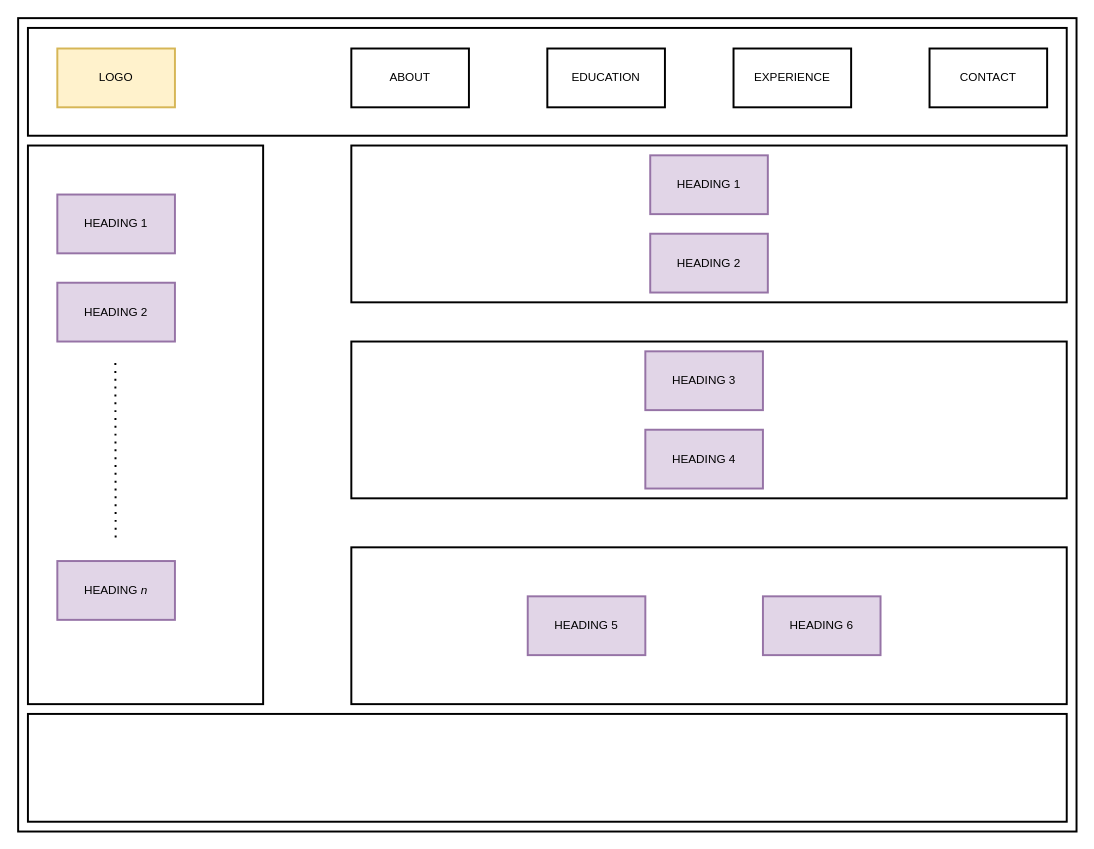
Image size: 1094x849. Some labels were removed from this diagram. The box of each missing label's shape, as (x1, y1, x2, y2) in pixels:
ABOUT SECTION: (350, 144, 1067, 303)
EDUCATION SECTION: (350, 340, 1067, 499)
EXPERIENCE SECTION: (350, 546, 1067, 705)
FOOTER: (26, 712, 1067, 822)
